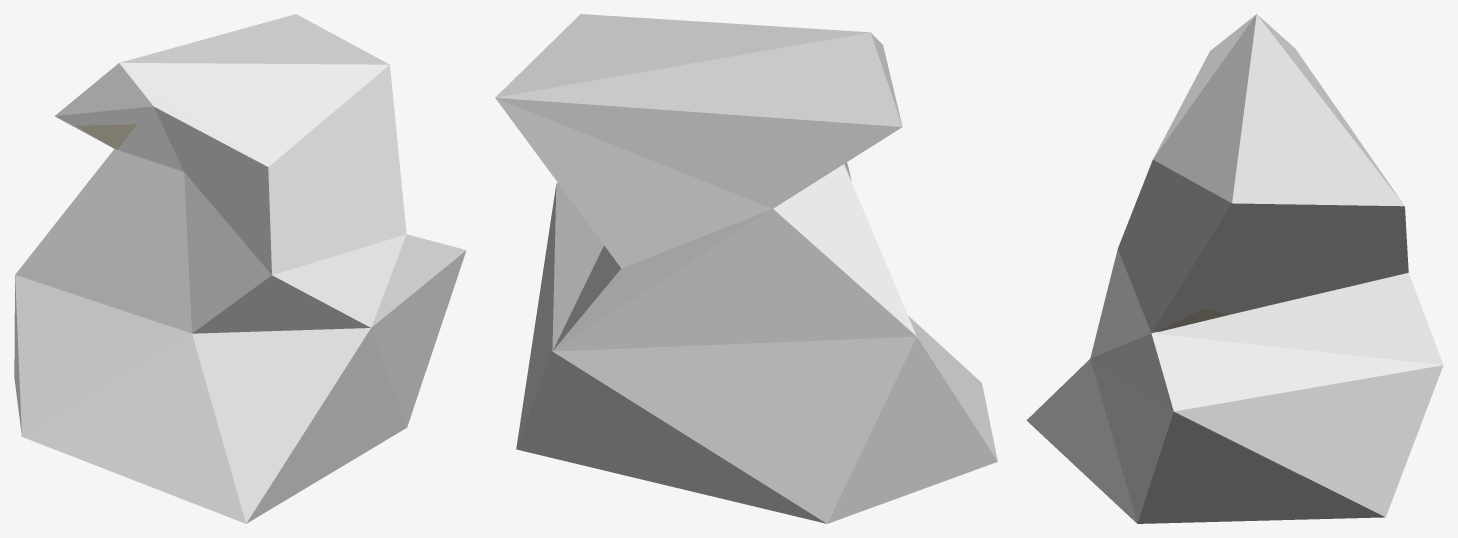
Rendered from resource__decoration__boulder__boulder-6.fbx.
3 renders of one model, left to right at view 1: azimuth 30°, elevation 25°; view 2: azimuth 150°, elevation 25°; view 3: azimuth 270°, elevation 25°, orthographic. The views are drawn at different scales.
Visible parts, largest first — view 1: Boulder_6; view 2: Boulder_6; view 3: Boulder_6.
Part boxes in pixels (<box>): Boulder_6: <box>14,14,466,523</box>; Boulder_6: <box>495,14,997,523</box>; Boulder_6: <box>1026,14,1443,523</box>.
Size of the model in its own units: 492 by 439 by 417.
